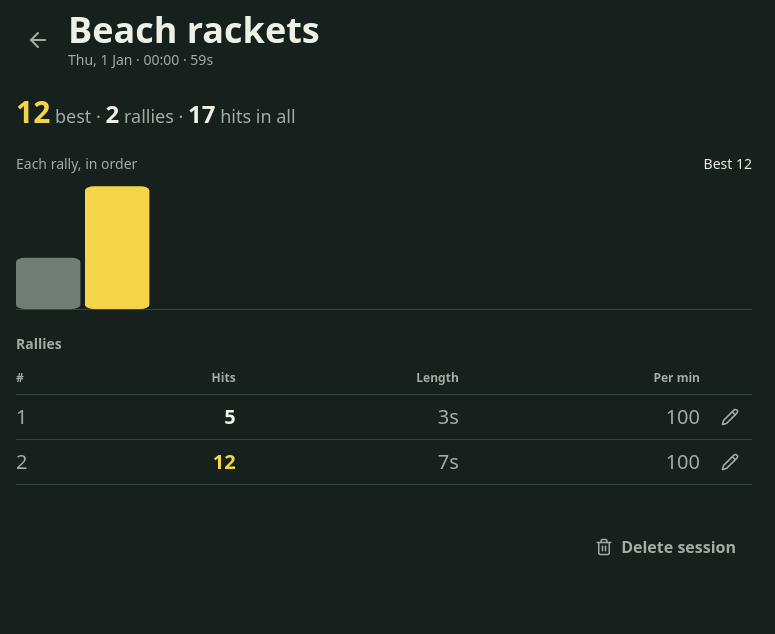
a rally deleted by mistake comes back with Undo
Click the button named "Correct rally 1".
click(730, 417)  # box [708, 395, 752, 439]
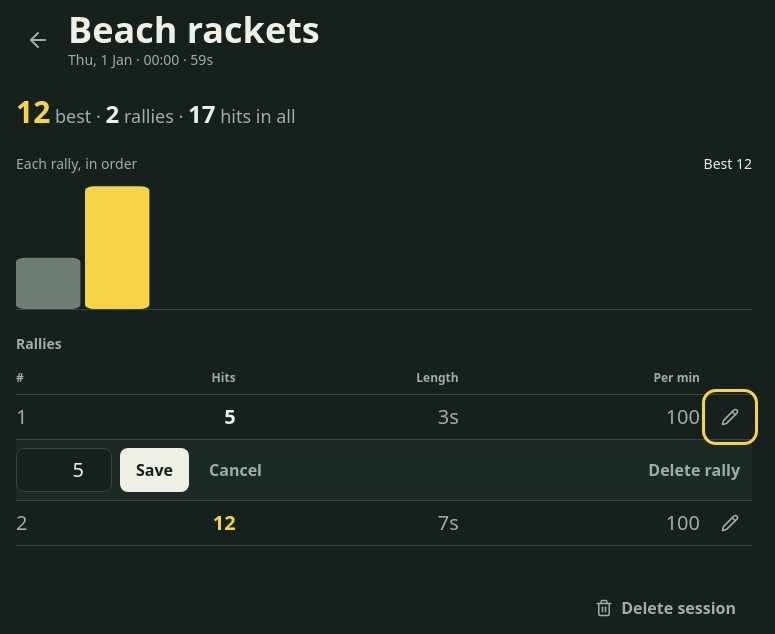
Click the button "Delete rally".
click(694, 470)  # box [636, 448, 752, 492]
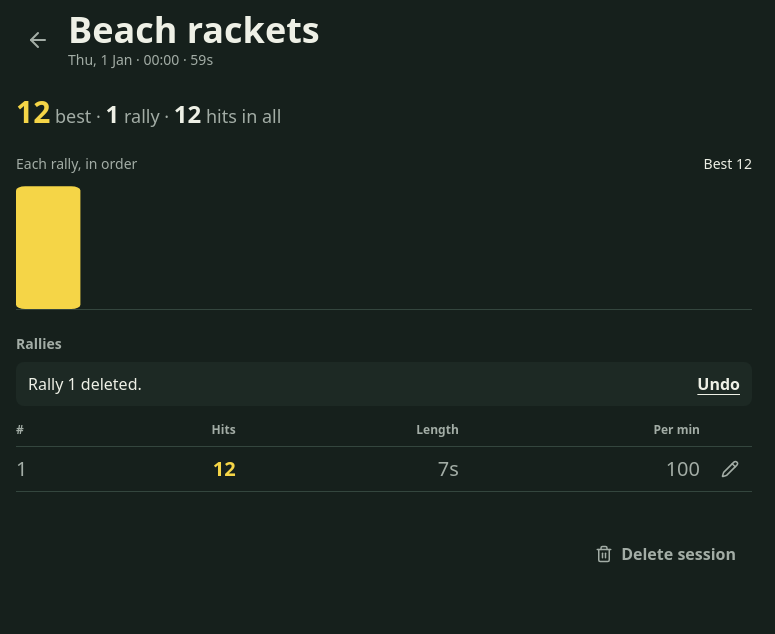
Check: the text "Rally 1 deleted." is shown, box [28, 373, 142, 395]
Click the button "Undo".
click(719, 384)  # box [697, 362, 740, 406]
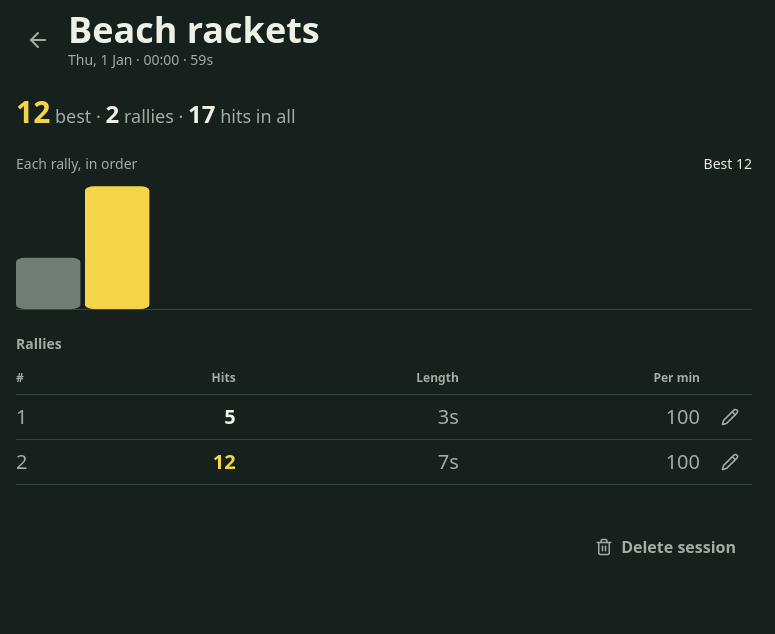
Check: the text "Rally 1 deleted." is gone
